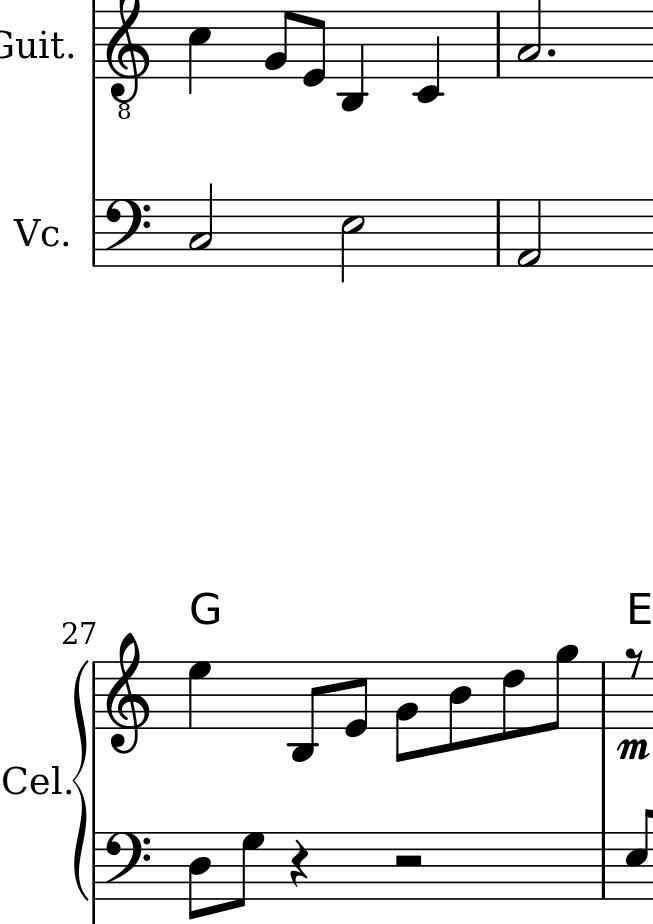2: (60, 620, 79, 647)
2_1: (516, 198, 544, 269)
2_2: (516, 1, 543, 78), (188, 186, 214, 262)
2_5: (339, 198, 365, 284)
4_-2: (413, 9, 441, 105)
4_5: (187, 9, 212, 96)
4_7: (187, 661, 213, 729)
7: (79, 618, 97, 647)
8_-3: (287, 661, 321, 766), (338, 12, 366, 113)
8_0: (344, 660, 372, 740), (302, 11, 327, 89)
8_2: (394, 673, 420, 762), (264, 10, 294, 79)
8_4: (448, 661, 473, 754), (187, 832, 212, 923)
8_5: (624, 807, 651, 898)
8_6: (501, 660, 526, 743)
8_7: (231, 830, 264, 909)
8_9: (545, 645, 577, 733)
Brace: (72, 657, 91, 901)
Cel: (3, 763, 62, 798)
Fclef: (103, 198, 151, 264), (102, 831, 151, 895)
Gclef: (107, 633, 149, 753)
Guit: (1, 27, 65, 60)
Lower_Gclef: (107, 1, 147, 120)
Rests2: (392, 853, 425, 870)
Rests4: (288, 839, 310, 890)
Rests8: (625, 647, 644, 679)
Single_barline: (88, 9, 105, 83), (595, 834, 612, 898), (492, 7, 506, 78), (88, 200, 102, 266), (597, 663, 611, 729), (89, 662, 102, 730), (89, 832, 102, 898), (492, 203, 505, 265)
Vc: (11, 214, 61, 249)
dot: (545, 47, 558, 59)
